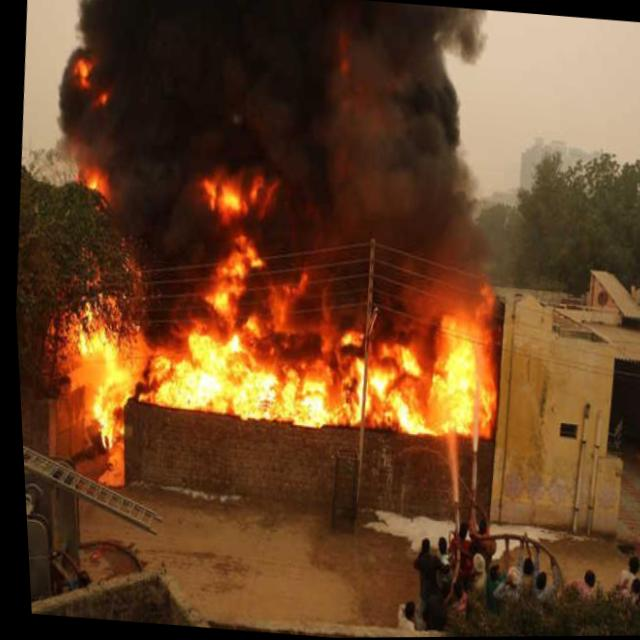fire: (121, 225, 508, 450), (56, 304, 151, 491), (195, 165, 276, 231), (75, 164, 110, 207), (70, 56, 96, 92), (88, 86, 111, 111)
